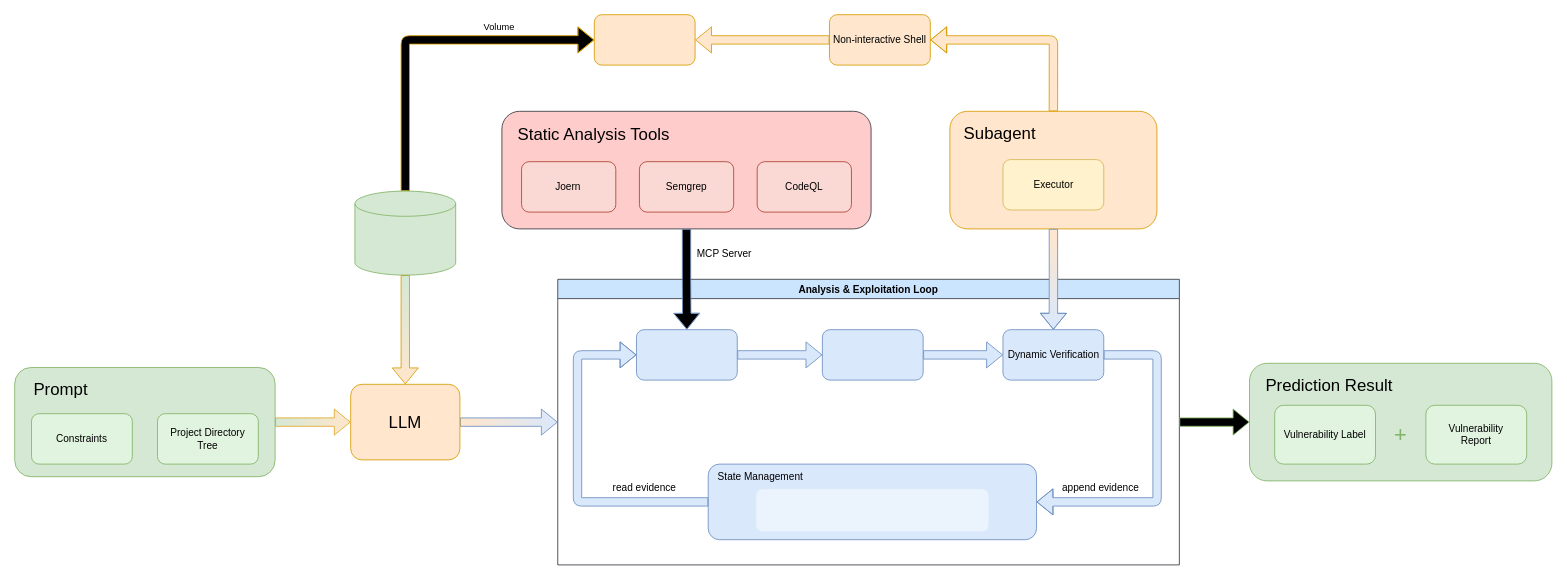
The diagram is 1567 pixels wide and 580 high, and some of its shapes have lost their labels. The centre of each missing label's shape, as x and y in pixels:
"Attack Planning" goes at [872,354].
"Blackboard" goes at [872,510].
"Codebase" goes at [405,232].
"Docker Container" goes at [644,39].
"Static Analysis" goes at [686,354].
